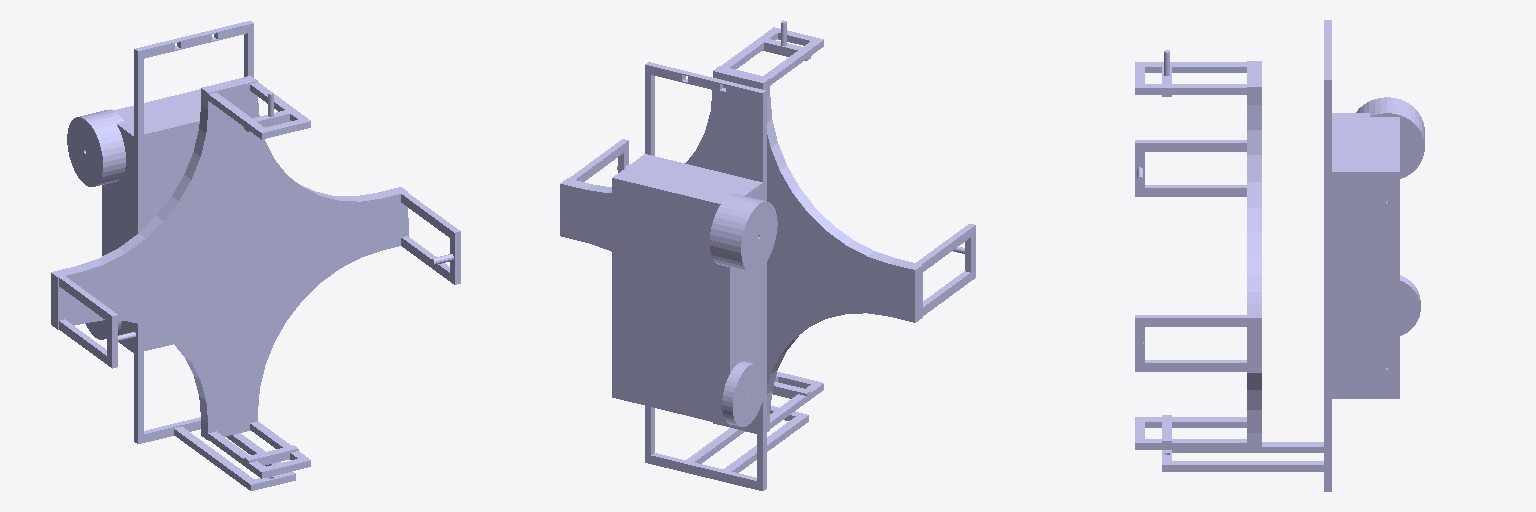
robot.urdf — Mobile_Leveling_Platform_V2:
<?xml version="1.0" encoding="utf-8"?>

<robot name="Mobile_Leveling_Platform_V2">

  <gazebo reference="base_link">
    <gravity>true</gravity>
    <sensor name="imu_sensor" type="imu">
      <always_on>true</always_on>
      <update_rate>100</update_rate>
      <visualize>true</visualize>
      <topic>__default_topic__</topic>
      <plugin filename="libgazebo_ros_imu_sensor.so" name="imu_plugin">
        <topicName>imu_base</topicName>
        <bodyName>base_link</bodyName>
        <updateRateHZ>10.0</updateRateHZ>`
        <gaussianNoise>0.0</gaussianNoise>
        <xyzOffset>0 0 0</xyzOffset>
        <rpyOffset>0 0 0</rpyOffset>
        <frameName>base_link</frameName>
        <initialOrientationAsReference>false</initialOrientationAsReference>
      </plugin>
      <pose>0 0 0 0 0 0</pose>
    </sensor>
  </gazebo>

  <gazebo reference="upper">
    <gravity>true</gravity>
    <sensor name="imu_sensor" type="imu">
      <always_on>true</always_on>
      <update_rate>100</update_rate>
      <visualize>true</visualize>
      <topic>__default_topic__</topic>
      <plugin filename="libgazebo_ros_imu_sensor.so" name="imu_plugin">
        <topicName>imu_upper</topicName>
        <bodyName>upper</bodyName>
        <updateRateHZ>10.0</updateRateHZ>`
        <gaussianNoise>0.0</gaussianNoise>
        <xyzOffset>0 0 0</xyzOffset>
        <rpyOffset>0 0 0</rpyOffset>
        <frameName>upper</frameName>
        <initialOrientationAsReference>false</initialOrientationAsReference>
      </plugin>
      <pose>0 0 0 0 0 0</pose>
    </sensor>
  </gazebo>


  <link
    name="base_link">
    <inertial>
      <origin
        xyz="0 0 0"
        rpy="0 0 0" />
      <mass
        value="155.16" />
      <inertia
        ixx="15.264"
        ixy="8.1869E-16"
        ixz="1.0947E-16"
        iyy="5.2055"
        iyz="3.5634E-16"
        izz="18.447" />
    </inertial>
    <visual>
      <origin
        xyz="0 0 0"
        rpy="0 0 0" />
      <geometry>
        <mesh
          filename="package://Mobile_Leveling_Platform_V2/meshes2/base_link.STL" />
      </geometry>
      <material
        name="">
        <color
          rgba="0.82353 0.82353 1 1" />
      </material>
    </visual>
    <collision>
      <origin
        xyz="0 0 0"
        rpy="0 0 0" />
      <geometry>
        <mesh
          filename="package://Mobile_Leveling_Platform_V2/meshes2/base_link.STL" />
      </geometry>
    </collision>
  </link>
  <link
    name="front_L_tire">
    <inertial>
      <origin
        xyz="0 5.5511E-17 0"
        rpy="0 0 0" />
      <mass
        value="2.7956" />
      <inertia
        ixx="0.024947"
        ixy="8.735E-20"
        ixz="-1.025E-35"
        iyy="0.013056"
        iyz="-2.9066E-35"
        izz="0.013056" />
    </inertial>
    <visual>
      <origin
        xyz="0 0 0"
        rpy="0 0 0" />
      <geometry>
        <mesh
          filename="package://Mobile_Leveling_Platform_V2/meshes2/front_L_tire.STL" />
      </geometry>
      <material
        name="">
        <color
          rgba="0.82353 0.82353 1 1" />
      </material>
    </visual>
    <collision>
      <origin
        xyz="0 0 0"
        rpy="0 0 0" />
      <geometry>
        <mesh
          filename="package://Mobile_Leveling_Platform_V2/meshes2/front_L_tire.STL" />
      </geometry>
    </collision>
  </link>
  <joint
    name="front_L_tire_joint"
    type="continuous">
    <origin
      xyz="-0.315 -0.05 0.3655"
      rpy="1.5708 0 0" />
    <parent
      link="base_link" />
    <child
      link="front_L_tire" />
    <axis
      xyz="1 0 0" />
  </joint>
  <link
    name="front_R_tire">
    <inertial>
      <origin
        xyz="0 5.5511E-17 6.9389E-18"
        rpy="0 0 0" />
      <mass
        value="2.7956" />
      <inertia
        ixx="0.024947"
        ixy="8.735E-20"
        ixz="-1.025E-35"
        iyy="0.013056"
        iyz="-2.9066E-35"
        izz="0.013056" />
    </inertial>
    <visual>
      <origin
        xyz="0 0 0"
        rpy="0 0 0" />
      <geometry>
        <mesh
          filename="package://Mobile_Leveling_Platform_V2/meshes2/front_R_tire.STL" />
      </geometry>
      <material
        name="">
        <color
          rgba="0.82353 0.82353 1 1" />
      </material>
    </visual>
    <collision>
      <origin
        xyz="0 0 0"
        rpy="0 0 0" />
      <geometry>
        <mesh
          filename="package://Mobile_Leveling_Platform_V2/meshes2/front_R_tire.STL" />
      </geometry>
    </collision>
  </link>
  <joint
    name="front_R_tire_joint"
    type="continuous">
    <origin
      xyz="0.315 -0.05 0.3655"
      rpy="1.5708 0 0" />
    <parent
      link="base_link" />
    <child
      link="front_R_tire" />
    <axis
      xyz="1 0 0" />
  </joint>
  <link
    name="rear_L_tire">
    <inertial>
      <origin
        xyz="0 -5.5511E-17 6.9389E-18"
        rpy="0 0 0" />
      <mass
        value="2.7956" />
      <inertia
        ixx="0.024947"
        ixy="8.735E-20"
        ixz="-1.1326E-35"
        iyy="0.013056"
        iyz="-2.7872E-35"
        izz="0.013056" />
    </inertial>
    <visual>
      <origin
        xyz="0 0 0"
        rpy="0 0 0" />
      <geometry>
        <mesh
          filename="package://Mobile_Leveling_Platform_V2/meshes2/rear_L_tire.STL" />
      </geometry>
      <material
        name="">
        <color
          rgba="0.82353 0.82353 1 1" />
      </material>
    </visual>
    <collision>
      <origin
        xyz="0 0 0"
        rpy="0 0 0" />
      <geometry>
        <mesh
          filename="package://Mobile_Leveling_Platform_V2/meshes2/rear_L_tire.STL" />
      </geometry>
    </collision>
  </link>
  <joint
    name="rear_L_tire_joint"
    type="fixed">
    <origin
      xyz="-0.315 -0.05 -0.3655"
      rpy="1.5708 0 0" />
    <parent
      link="base_link" />
    <child
      link="rear_L_tire" />
    <axis
      xyz="0 0 0" />
  </joint>
  <link
    name="rear_R_tire">
    <inertial>
      <origin
        xyz="0 -5.5511E-17 0"
        rpy="0 0 0" />
      <mass
        value="2.7956" />
      <inertia
        ixx="0.024947"
        ixy="8.735E-20"
        ixz="-1.025E-35"
        iyy="0.013056"
        iyz="-2.9066E-35"
        izz="0.013056" />
    </inertial>
    <visual>
      <origin
        xyz="0 0 0"
        rpy="0 0 0" />
      <geometry>
        <mesh
          filename="package://Mobile_Leveling_Platform_V2/meshes2/rear_R_tire.STL" />
      </geometry>
      <material
        name="">
        <color
          rgba="0.82353 0.82353 1 1" />
      </material>
    </visual>
    <collision>
      <origin
        xyz="0 0 0"
        rpy="0 0 0" />
      <geometry>
        <mesh
          filename="package://Mobile_Leveling_Platform_V2/meshes2/rear_R_tire.STL" />
      </geometry>
    </collision>
  </link>
  <joint
    name="rear_R_tire_joint"
    type="fixed">
    <origin
      xyz="0.315 -0.05 -0.3655"
      rpy="1.5708 0 0" />
    <parent
      link="base_link" />
    <child
      link="rear_R_tire" />
    <axis
      xyz="0 0 0" />
  </joint>
  <link
    name="front_link">
    <inertial>
      <origin
        xyz="2.1233E-17 0 0.015646"
        rpy="0 0 0" />
      <mass
        value="1.7553" />
      <inertia
        ixx="0.073665"
        ixy="6.2229E-21"
        ixz="4.4114E-18"
        iyy="0.086715"
        iyz="-2.2576E-19"
        izz="0.013313" />
    </inertial>
    <visual>
      <origin
        xyz="0 0 0"
        rpy="0 0 0" />
      <geometry>
        <mesh
          filename="package://Mobile_Leveling_Platform_V2/meshes2/front_link.STL" />
      </geometry>
      <material
        name="">
        <color
          rgba="0.82353 0.82353 1 1" />
      </material>
    </visual>
    <collision>
      <origin
        xyz="0 0 0"
        rpy="0 0 0" />
      <geometry>
        <mesh
          filename="package://Mobile_Leveling_Platform_V2/meshes2/front_link.STL" />
      </geometry>
    </collision>
  </link>

  <joint
    name="front_joint"
    type="fixed">
    <origin
      xyz="0 -0.623 0.884"
      rpy="1.5708 0 0" />
    <parent
      link="base_link" />
    <child
      link="front_link" />
    <axis
      xyz="0 0 0" />
  </joint>

  <link
    name="front_rev_link">
    <inertial>
      <origin
        xyz="7.9907E-20 0 -1.1102E-16"
        rpy="0 0 0" />
      <mass
        value="0.065777" />
      <inertia
        ixx="0.00010099"
        ixy="-1.4188E-21"
        ixz="-7.6468E-54"
        iyy="5.1388E-06"
        iyz="0"
        izz="0.00010099" />
    </inertial>
    <visual>
      <origin
        xyz="0 0 0"
        rpy="0 0 0" />
      <geometry>
        <mesh
          filename="package://Mobile_Leveling_Platform_V2/meshes2/front_rev_link.STL" />
      </geometry>
      <material
        name="">
        <color
          rgba="0.82353 0.82353 1 1" />
      </material>
    </visual>
    <collision>
      <origin
        xyz="0 0 0"
        rpy="0 0 0" />
      <geometry>
        <mesh
          filename="package://Mobile_Leveling_Platform_V2/meshes2/front_rev_link.STL" />
      </geometry>
    </collision>
  </link>
  <joint
    name="front_rev_joint"
    type="revolute">
    <origin
      xyz="0 -0.052 0.303"
      rpy="0 0 0" />
    <parent
      link="front_link" />
    <child
      link="front_rev_link" />
    <axis
      xyz="0 -1 0" />
    <limit
      lower="-0.5236"
      upper="0.5236"
      effort="1"
      velocity="1" />
  </joint>
  <link
    name="under_upper">
    <inertial>
      <origin
        xyz="-3.1578E-16 0.78 -0.23865"
        rpy="0 0 0" />
      <mass
        value="65.283" />
      <inertia
        ixx="6.3999"
        ixy="-4.1894E-16"
        ixz="-1.8877E-17"
        iyy="7.261"
        iyz="-2.6075E-17"
        izz="13.487" />
    </inertial>
    <visual>
      <origin
        xyz="0 0 0"
        rpy="0 0 0" />
      <geometry>
        <mesh
          filename="package://Mobile_Leveling_Platform_V2/meshes2/under_upper.STL" />
      </geometry>
      <material
        name="">
        <color
          rgba="0.82353 0.82353 1 1" />
      </material>
    </visual>
    <collision>
      <origin
        xyz="0 0 0"
        rpy="0 0 0" />
      <geometry>
        <mesh
          filename="package://Mobile_Leveling_Platform_V2/meshes2/under_upper.STL" />
      </geometry>
    </collision>
  </link>
  <joint
    name="under_upper_joint"
    type="fixed">
    <origin
      xyz="0 -0.052 -0.094958"
      rpy="0 0 3.1416" />
    <parent
      link="front_rev_link" />
    <child
      link="under_upper" />
    <axis
      xyz="0 0 0" />
  </joint>
  <link
    name="under_upper_R_link">
    <inertial>
      <origin
        xyz="1.1102E-16 1.0033E-15 0.0063756"
        rpy="0 0 0" />
      <mass
        value="1.3533" />
      <inertia
        ixx="0.044101"
        ixy="-8.5828E-21"
        ixz="4.1875E-20"
        iyy="0.031883"
        iyz="1.0583E-18"
        izz="0.012421" />
    </inertial>
    <visual>
      <origin
        xyz="0 0 0"
        rpy="0 0 0" />
      <geometry>
        <mesh
          filename="package://Mobile_Leveling_Platform_V2/meshes2/under_upper_R_link.STL" />
      </geometry>
      <material
        name="">
        <color
          rgba="0.82353 0.82353 1 1" />
      </material>
    </visual>
    <collision>
      <origin
        xyz="0 0 0"
        rpy="0 0 0" />
      <geometry>
        <mesh
          filename="package://Mobile_Leveling_Platform_V2/meshes2/under_upper_R_link.STL" />
      </geometry>
    </collision>
  </link>
  <joint
    name="under_upper_R_joint"
    type="fixed">
    <origin
      xyz="-0.824 0.78 0"
      rpy="0 0 -3.1416" />
    <parent
      link="under_upper" />
    <child
      link="under_upper_R_link" />
    <axis
      xyz="0 0 0" />
  </joint>
  <link
    name="upper_rev_link">
    <inertial>
      <origin
        xyz="-1.1102E-16 -7.9907E-20 0"
        rpy="0 0 0" />
      <mass
        value="0.058414" />
      <inertia
        ixx="4.5636E-06"
        ixy="1.26E-21"
        ixz="0"
        iyy="7.1215E-05"
        iyz="0"
        izz="7.1215E-05" />
    </inertial>
    <visual>
      <origin
        xyz="0 0 0"
        rpy="0 0 0" />
      <geometry>
        <mesh
          filename="package://Mobile_Leveling_Platform_V2/meshes2/upper_rev_link.STL" />
      </geometry>
      <material
        name="">
        <color
          rgba="0.82353 0.82353 1 1" />
      </material>
    </visual>
    <collision>
      <origin
        xyz="0 0 0"
        rpy="0 0 0" />
      <geometry>
        <mesh
          filename="package://Mobile_Leveling_Platform_V2/meshes2/upper_rev_link.STL" />
      </geometry>
    </collision>
  </link>
  <joint
    name="upper_rev_joint"
    type="revolute">
    <origin
      xyz="-0.0445 0 0.2025"
      rpy="0 0 0" />
    <parent
      link="under_upper_R_link" />
    <child
      link="upper_rev_link" />
    <axis
      xyz="-1 0 0" />
    <limit
      lower="-0.5236"
      upper="0.5236"
      effort="1"
      velocity="1" />
  </joint>
  <link
    name="upper">
    <inertial>
      <origin
        xyz="1.6976E-14 3.5696E-18 0.0093817"
        rpy="0 0 0" />
      <mass
        value="30.967" />
      <inertia
        ixx="5.832"
        ixy="-5.421E-16"
        ixz="2.9827E-17"
        iyy="6.1258"
        iyz="-8.6368E-18"
        izz="11.951" />
    </inertial>
    <visual>
      <origin
        xyz="0 0 0"
        rpy="0 0 0" />
      <geometry>
        <mesh
          filename="package://Mobile_Leveling_Platform_V2/meshes2/upper.STL" />
      </geometry>
      <material
        name="">
        <color
          rgba="0.82353 0.82353 1 1" />
      </material>
    </visual>
    <collision>
      <origin
        xyz="0 0 0"
        rpy="0 0 0" />
      <geometry>
        <mesh
          filename="package://Mobile_Leveling_Platform_V2/meshes2/upper.STL" />
      </geometry>
    </collision>
  </link>
  <joint
    name="upper_joint"
    type="fixed">
    <origin
      xyz="-0.7795 0 0"
      rpy="0 0 0" />
    <parent
      link="upper_rev_link" />
    <child
      link="upper" />
    <axis
      xyz="0 0 0" />
  </joint>
  <link
    name="under_upper_L_link">
    <inertial>
      <origin
        xyz="0 4.1266E-18 0.0063756"
        rpy="0 0 0" />
      <mass
        value="1.3533" />
      <inertia
        ixx="0.044101"
        ixy="-8.5828E-21"
        ixz="4.1875E-20"
        iyy="0.031883"
        iyz="1.0981E-18"
        izz="0.012421" />
    </inertial>
    <visual>
      <origin
        xyz="0 0 0"
        rpy="0 0 0" />
      <geometry>
        <mesh
          filename="package://Mobile_Leveling_Platform_V2/meshes2/under_upper_L_link.STL" />
      </geometry>
      <material
        name="">
        <color
          rgba="0.82353 0.82353 1 1" />
      </material>
    </visual>
    <collision>
      <origin
        xyz="0 0 0"
        rpy="0 0 0" />
      <geometry>
        <mesh
          filename="package://Mobile_Leveling_Platform_V2/meshes2/under_upper_L_link.STL" />
      </geometry>
    </collision>
  </link>
  <joint
    name="under_upper_L_joint"
    type="fixed">
    <origin
      xyz="0.824 0.78 0"
      rpy="0 0 -3.1416" />
    <parent
      link="under_upper" />
    <child
      link="under_upper_L_link" />
    <axis
      xyz="0 0 0" />
  </joint>
  <link
    name="upper_fixed_link">
    <inertial>
      <origin
        xyz="0 -7.9907E-20 0"
        rpy="0 0 0" />
      <mass
        value="0.058414" />
      <inertia
        ixx="4.5636E-06"
        ixy="1.26E-21"
        ixz="0"
        iyy="7.1215E-05"
        iyz="0"
        izz="7.1215E-05" />
    </inertial>
    <visual>
      <origin
        xyz="0 0 0"
        rpy="0 0 0" />
      <geometry>
        <mesh
          filename="package://Mobile_Leveling_Platform_V2/meshes2/upper_fixed_link.STL" />
      </geometry>
      <material
        name="">
        <color
          rgba="0.82353 0.82353 1 1" />
      </material>
    </visual>
    <collision>
      <origin
        xyz="0 0 0"
        rpy="0 0 0" />
      <geometry>
        <mesh
          filename="package://Mobile_Leveling_Platform_V2/meshes2/upper_fixed_link.STL" />
      </geometry>
    </collision>
  </link>
  <joint
    name="upper_fixed_joint"
    type="fixed">
    <origin
      xyz="0.0445 0 0.2025"
      rpy="0 0 0" />
    <parent
      link="under_upper_L_link" />
    <child
      link="upper_fixed_link" />
    <axis
      xyz="0 0 0" />
  </joint>
  <link
    name="rear_link">
    <inertial>
      <origin
        xyz="1.6065E-17 0 0.015646"
        rpy="0 0 0" />
      <mass
        value="1.7553" />
      <inertia
        ixx="0.073665"
        ixy="6.2229E-21"
        ixz="4.4204E-18"
        iyy="0.086715"
        iyz="-2.2576E-19"
        izz="0.013313" />
    </inertial>
    <visual>
      <origin
        xyz="0 0 0"
        rpy="0 0 0" />
      <geometry>
        <mesh
          filename="package://Mobile_Leveling_Platform_V2/meshes2/rear_link.STL" />
      </geometry>
      <material
        name="">
        <color
          rgba="0.82353 0.82353 1 1" />
      </material>
    </visual>
    <collision>
      <origin
        xyz="0 0 0"
        rpy="0 0 0" />
      <geometry>
        <mesh
          filename="package://Mobile_Leveling_Platform_V2/meshes2/rear_link.STL" />
      </geometry>
    </collision>
  </link>
  <joint
    name="rear_joint"
    type="fixed">
    <origin
      xyz="0 -0.623 -0.884"
      rpy="1.5708 0 0" />
    <parent
      link="base_link" />
    <child
      link="rear_link" />
    <axis
      xyz="0 0 0" />
  </joint>
  <link
    name="rear_fixed_link">
    <inertial>
      <origin
        xyz="7.9907E-20 0 -1.1102E-16"
        rpy="0 0 0" />
      <mass
        value="0.065777" />
      <inertia
        ixx="0.00010099"
        ixy="-1.4188E-21"
        ixz="-7.6468E-54"
        iyy="5.1388E-06"
        iyz="0"
        izz="0.00010099" />
    </inertial>
    <visual>
      <origin
        xyz="0 0 0"
        rpy="0 0 0" />
      <geometry>
        <mesh
          filename="package://Mobile_Leveling_Platform_V2/meshes2/rear_fixed_link.STL" />
      </geometry>
      <material
        name="">
        <color
          rgba="0.82353 0.82353 1 1" />
      </material>
    </visual>
    <collision>
      <origin
        xyz="0 0 0"
        rpy="0 0 0" />
      <geometry>
        <mesh
          filename="package://Mobile_Leveling_Platform_V2/meshes2/rear_fixed_link.STL" />
      </geometry>
    </collision>
  </link>
  <joint
    name="rear_fixed_joint"
    type="fixed">
    <origin
      xyz="0 0.052 0.303"
      rpy="0 0 0" />
    <parent
      link="rear_link" />
    <child
      link="rear_fixed_link" />
    <axis
      xyz="0 0 0" />
  </joint>


</robot>

--- Facts derived from the render (not from the file) ---
Views: 3 orthographic renders of the robot side by side, from view 1: azimuth 30°, elevation 25°; view 2: azimuth 150°, elevation 25°; view 3: azimuth 270°, elevation 25°.
Robot: Mobile_Leveling_Platform_V2 — 15 links, 14 joints (2 revolute, 2 continuous, 10 fixed); root link base_link; default pose: every joint at zero.
Links seen in each view (by area): view 1: under_upper, base_link, front_L_tire, under_upper_L_link, rear_link, under_upper_R_link; view 2: base_link, under_upper, front_L_tire, rear_L_tire, under_upper_L_link, rear_link, under_upper_R_link; view 3: base_link, under_upper, under_upper_R_link, under_upper_L_link, rear_link, front_L_tire, rear_L_tire.
Link boxes in pixels (x1=…): under_upper: x1=51, y1=76, x2=408, y2=478; base_link: x1=102, y1=21, x2=253, y2=443; front_L_tire: x1=67, y1=109, x2=125, y2=186; under_upper_L_link: x1=59, y1=276, x2=117, y2=368; rear_link: x1=174, y1=426, x2=295, y2=490; under_upper_R_link: x1=401, y1=192, x2=460, y2=284; base_link: x1=612, y1=62, x2=766, y2=490; under_upper: x1=560, y1=27, x2=922, y2=433; front_L_tire: x1=710, y1=194, x2=777, y2=272; rear_L_tire: x1=722, y1=361, x2=764, y2=426; under_upper_L_link: x1=908, y1=224, x2=975, y2=320; rear_link: x1=682, y1=406, x2=808, y2=480; under_upper_R_link: x1=561, y1=139, x2=628, y2=236; base_link: x1=1324, y1=20, x2=1399, y2=491; under_upper: x1=1135, y1=61, x2=1261, y2=450; under_upper_R_link: x1=1135, y1=315, x2=1246, y2=371; under_upper_L_link: x1=1135, y1=140, x2=1246, y2=196; rear_link: x1=1162, y1=442, x2=1323, y2=471; front_L_tire: x1=1356, y1=97, x2=1424, y2=178; rear_L_tire: x1=1400, y1=275, x2=1420, y2=335.
Size in the robot's own frame: 1.69 by 1.15 by 1.81 metres.
Meshes: 15 distinct files referenced, 10 mesh visuals loaded (10 binary STL); not drawn: 5 (reference not matched to a file when rendering).